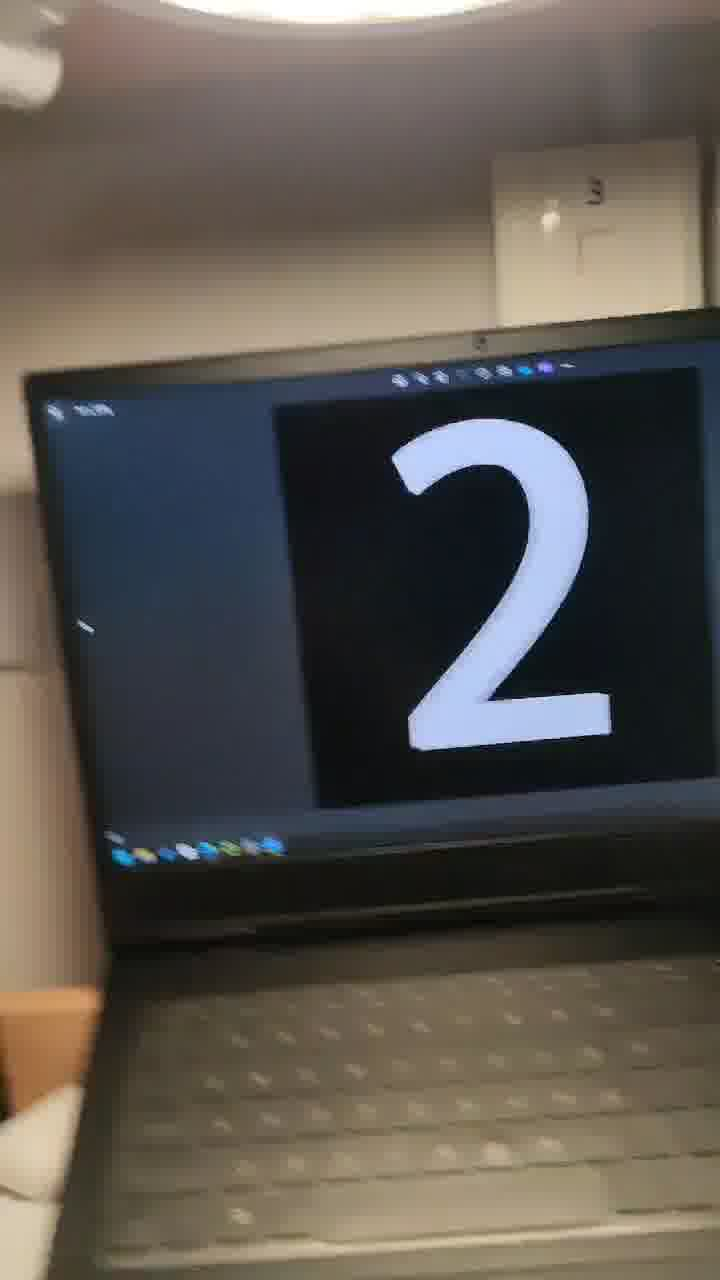two: (347, 392, 662, 823)
